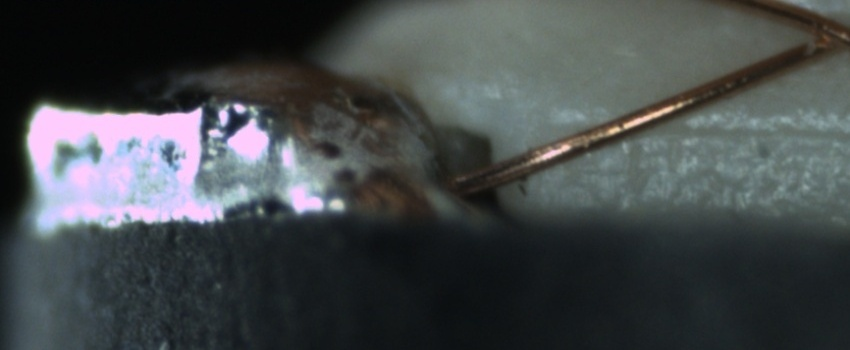CL: (791, 7, 850, 61)
DL: (563, 97, 849, 162)
